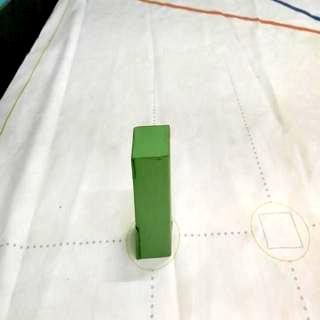greenbox: (132, 124, 175, 261)
